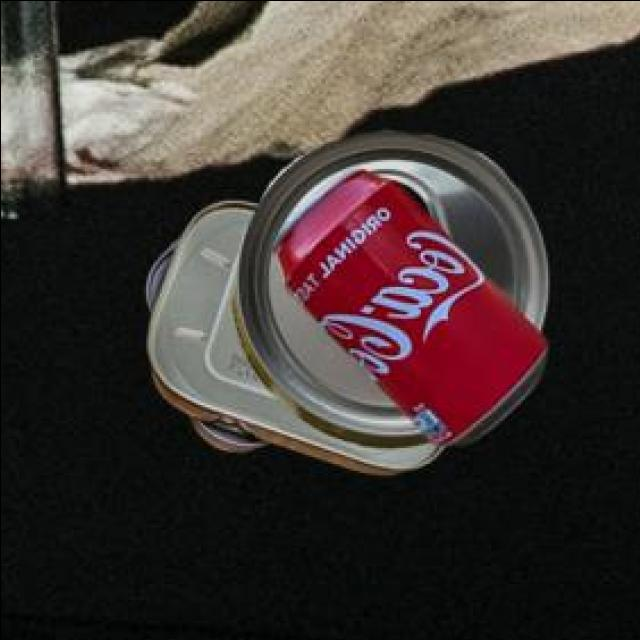logam: (228, 133, 546, 450), (142, 203, 439, 478), (269, 174, 541, 446)
